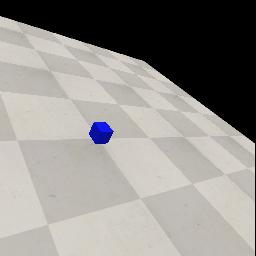box: (89, 122, 114, 144)
